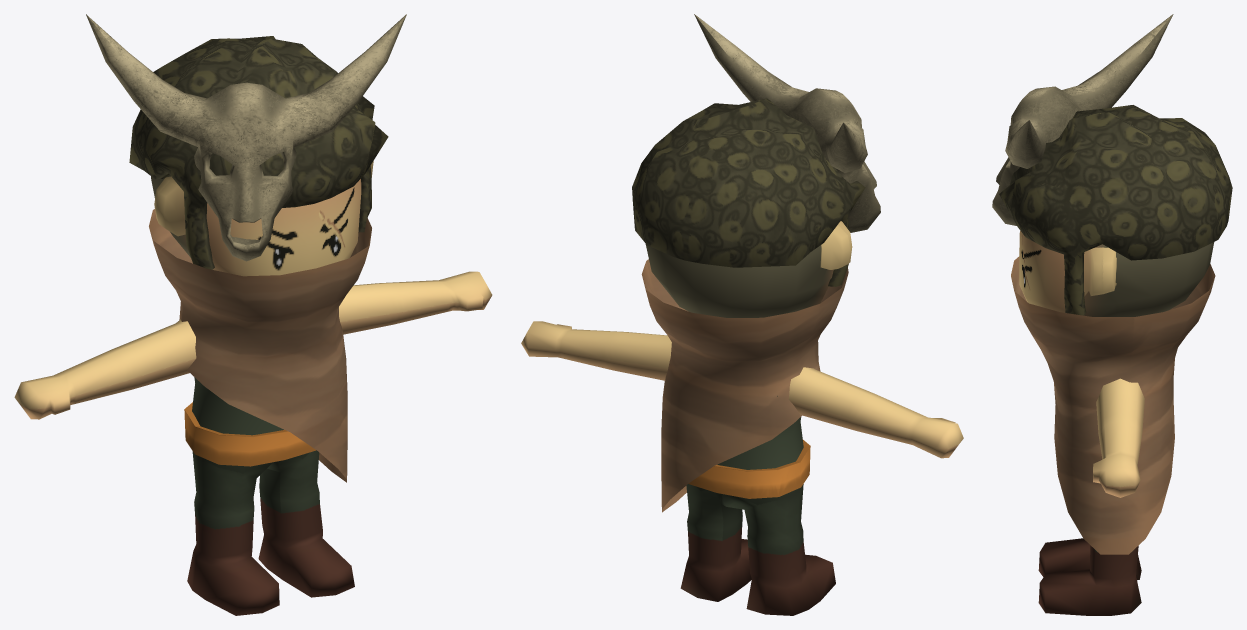
File: CharecterAssasin_Base.fbx
3 views of the same model, side by side, from view 1: azimuth 30°, elevation 25°; view 2: azimuth 150°, elevation 25°; view 3: azimuth 270°, elevation 25° (orthographic). The views are drawn at different scales.
Parts seen in each view (by area): view 1: pPlane14, pPlane13, pCube31, polySurface3336, charecter04_pCube13, pCube36, pCube32; view 2: polySurface3336, pPlane14, pCube31, charecter04_pCube13, pCube36, pPlane13, pCube32; view 3: polySurface3336, pPlane14, pCube36, pPlane13, pCube31, charecter04_pCube13.
Boxes of the visible parts, x1,y1,x2,y2 form: pPlane14: (149, 209, 371, 482); pPlane13: (86, 14, 406, 261); pCube31: (187, 377, 354, 615); polySurface3336: (129, 36, 388, 269); charecter04_pCube13: (14, 271, 492, 419); pCube36: (151, 161, 373, 276); pCube32: (184, 402, 315, 466); polySurface3336: (632, 98, 865, 286); pPlane14: (641, 259, 848, 512); pCube31: (680, 396, 835, 615); charecter04_pCube13: (521, 321, 963, 458); pCube36: (645, 221, 852, 317); pPlane13: (694, 14, 880, 232); pCube32: (688, 439, 810, 498); polySurface3336: (999, 105, 1232, 315); pPlane14: (1011, 256, 1215, 554); pCube36: (1019, 231, 1214, 316); pPlane13: (992, 14, 1173, 225); pCube31: (1038, 538, 1141, 615); charecter04_pCube13: (1093, 378, 1144, 497).
Bounding box in the file's own units: 6.46 × 7.51 × 3.19.
